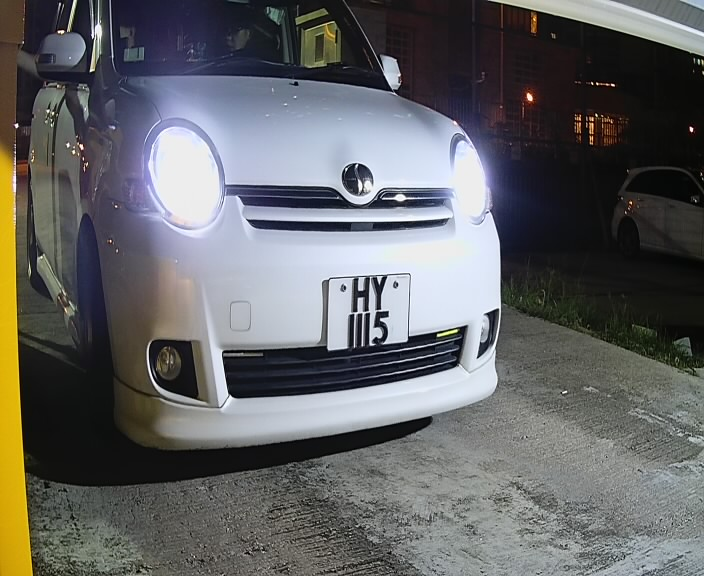License Plate: (317, 261, 422, 360)
